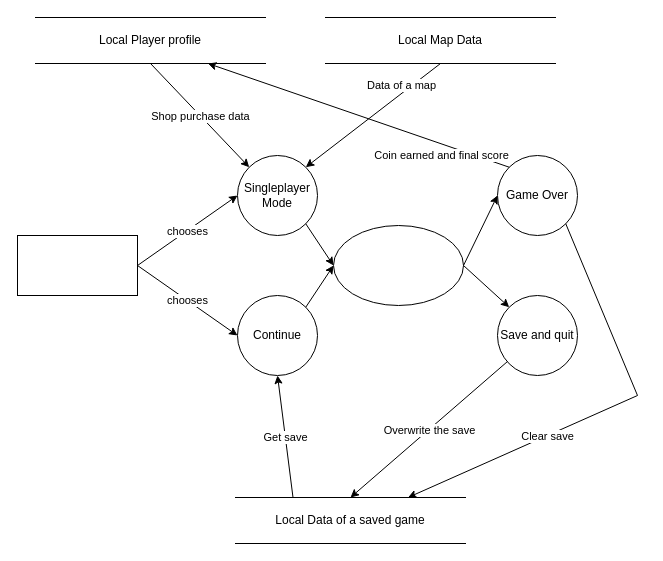
The diagram is 663 pixels wide and 561 high, and some of its shapes have lost their labels. Here are the shapes that lost their labels. From the top down, the box of each, then its label:
(16, 234, 138, 296): Player
(332, 224, 464, 306): Gameplay
